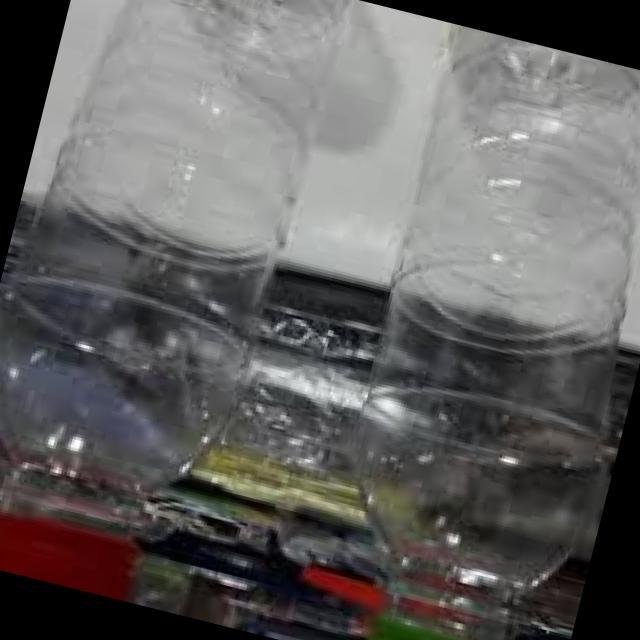good: (282, 22, 640, 640), (0, 0, 343, 614)
